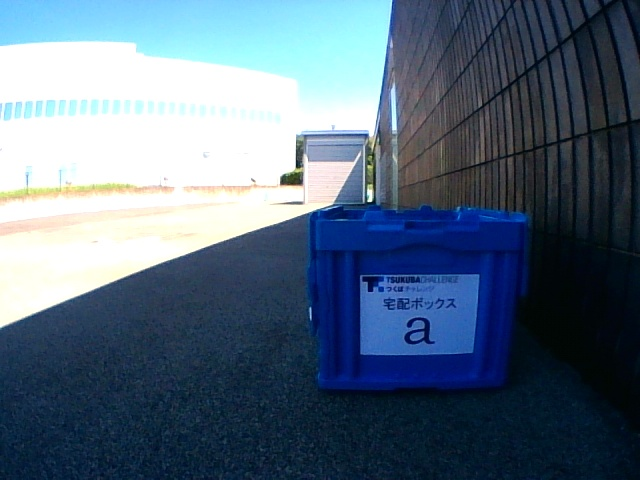blue_box: (309, 205, 528, 388)
tag_a: (361, 275, 471, 353)
